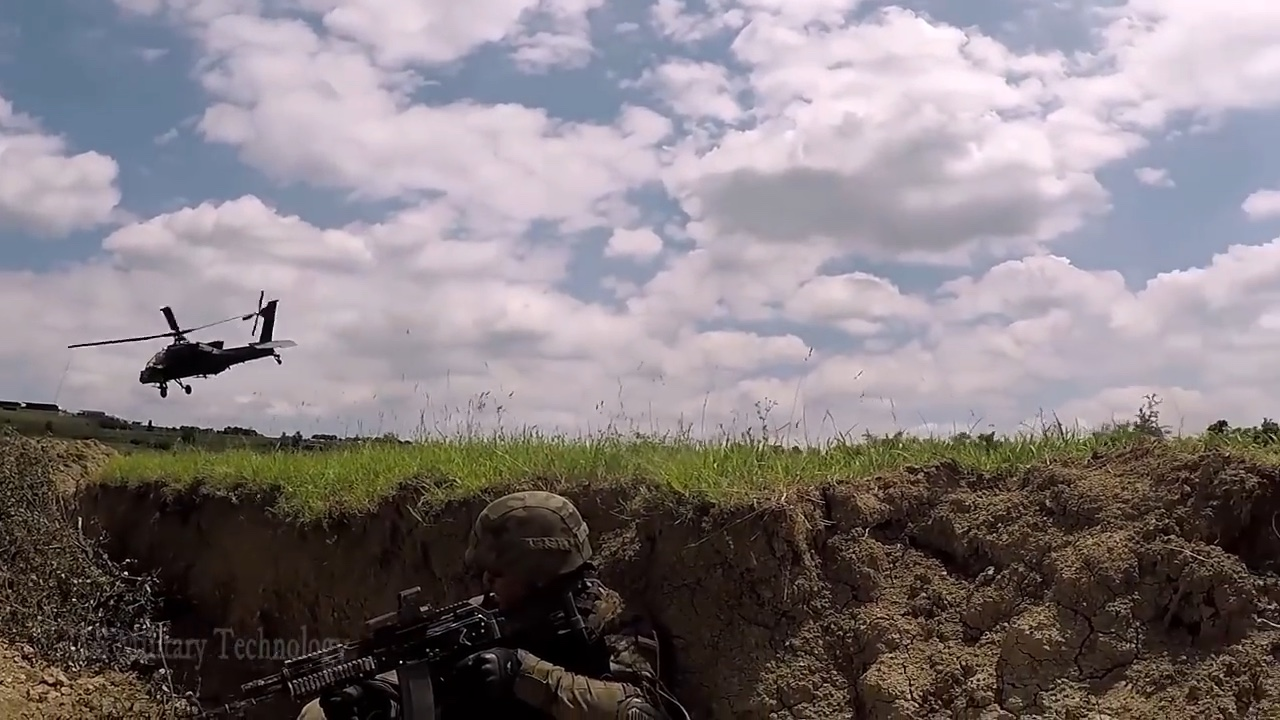ah64: (66, 289, 298, 401)
